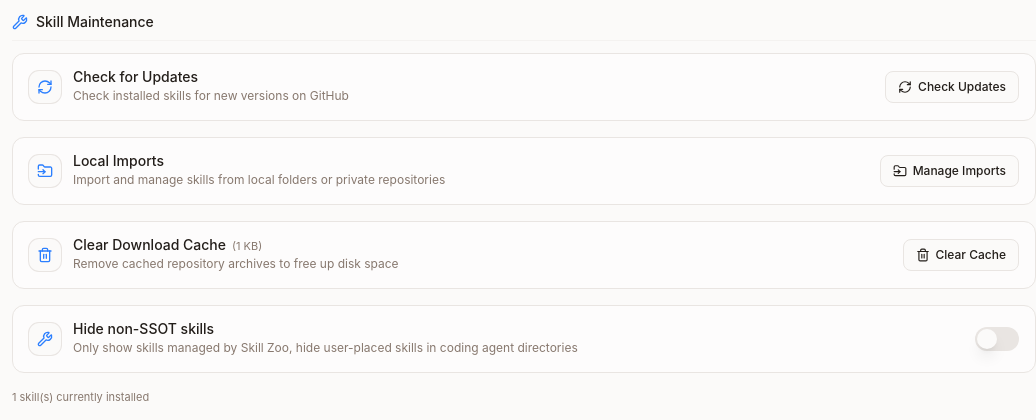
Test: SkillMaintenanceSettings › does not describe rate limiting as partial results when no repository was checked
This screenshot has width=1036, height=420.
Click the button "Check Updates" at x=952, y=87, box [885,71,1019,103]
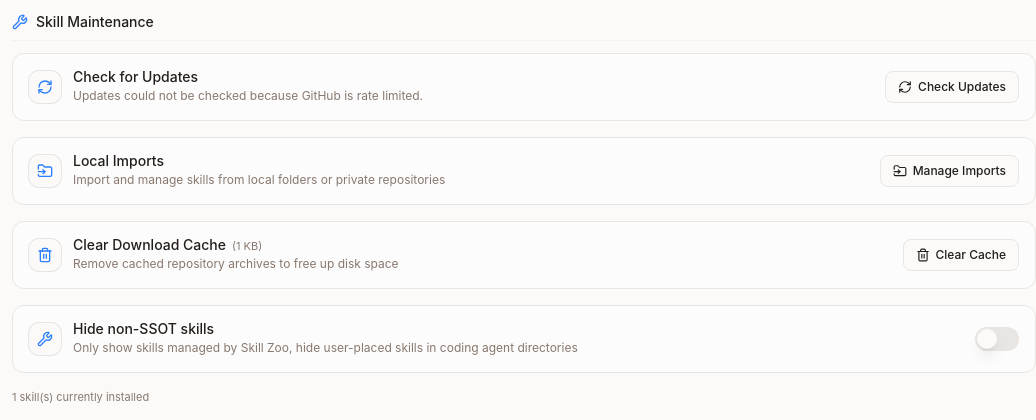
Check: the text "Updates could not be checked because GitHub is rate limited." is shown, box [73,88,423,104]
